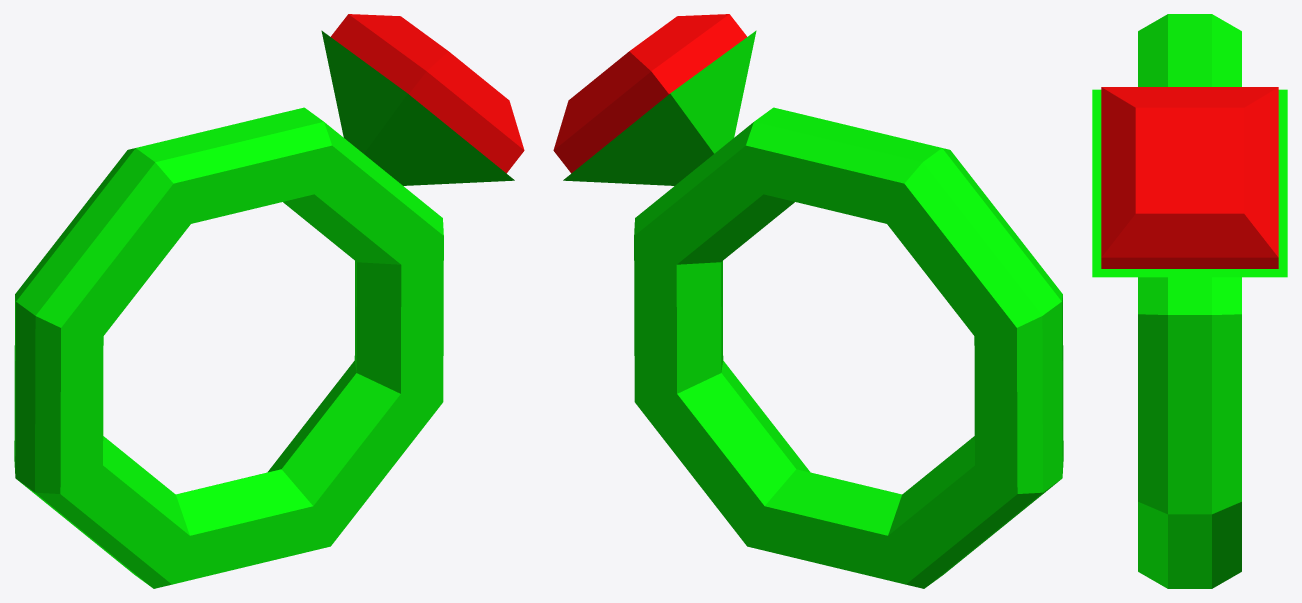
The model's file is Ring.fbx.
The picture shows the model from 3 angles, left to right: view 1: azimuth 30°, elevation 25°; view 2: azimuth 150°, elevation 25°; view 3: azimuth 270°, elevation 25°; orthographic projection. The views are drawn at different scales.
Visible parts, largest first — view 1: Ring; view 2: Ring; view 3: Ring.
Part boxes in pixels (x1,y1,x2,y2): Ring: (14,14,524,588); Ring: (553,14,1063,588); Ring: (1092,14,1287,588).
Size of the model in its own units: 61.32 by 61.15 by 19.92.
